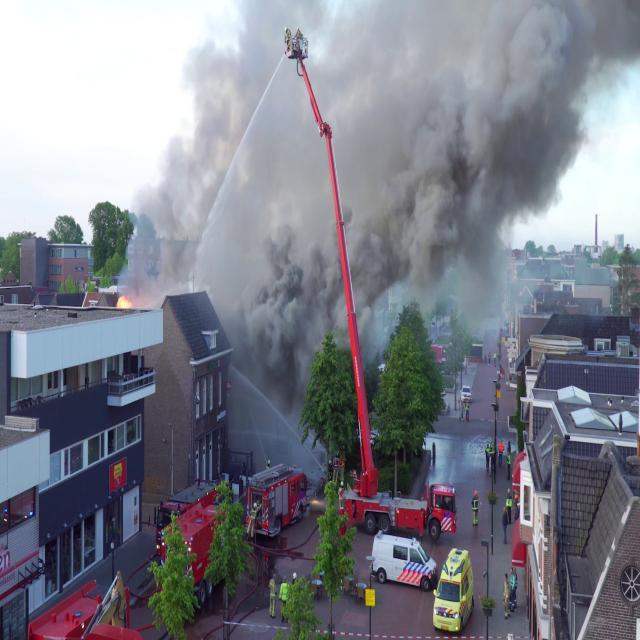Fire: (114, 288, 132, 314)
Smoke: (135, 0, 640, 328)
